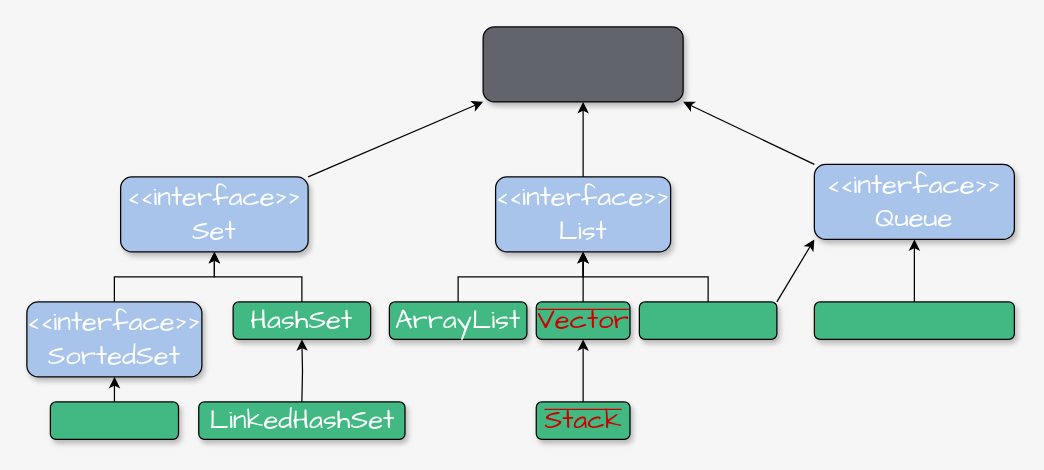
The diagram is 1044 pixels wide and 470 high, and some of its shapes have lost their labels. The shapes that lost their labels are listed below. From the top down, each one's centre as x and y in pixels, then its label:
At pixel 584 66: "<<interface>> Collection".
At pixel 708 322: "LinkedList".
At pixel 915 322: "PriorityQueue".
At pixel 115 422: "TreeSet".
